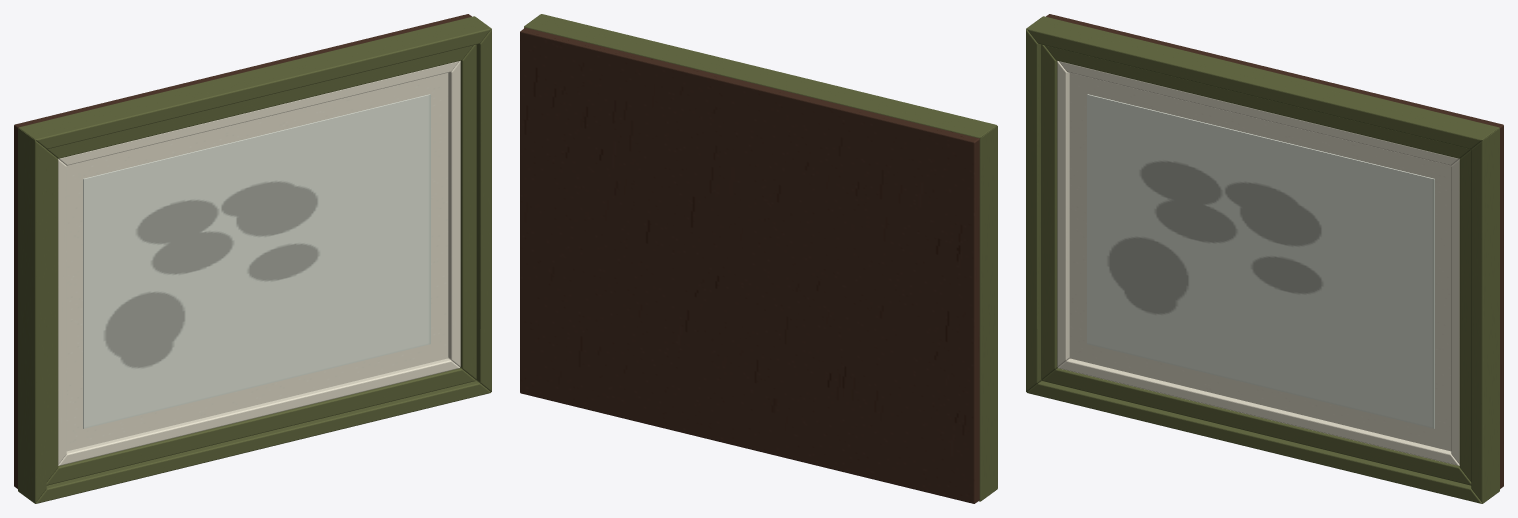
The model's file is Frame_18_FUR06.fbx.
The picture shows the model from 3 angles, left to right: view 1: azimuth 30°, elevation 25°; view 2: azimuth 150°, elevation 25°; view 3: azimuth 330°, elevation 25°; orthographic projection.
Visible parts, largest first — view 1: Frame_18; view 2: Frame_18; view 3: Frame_18.
Boxes of the visible parts, x1,y1,x2,y2 form: Frame_18: [14, 14, 491, 503]; Frame_18: [520, 14, 997, 503]; Frame_18: [1026, 14, 1503, 503].
Size of the model in its own units: 0.42 by 0.32 by 0.036.
2 materials, 2 textured.
